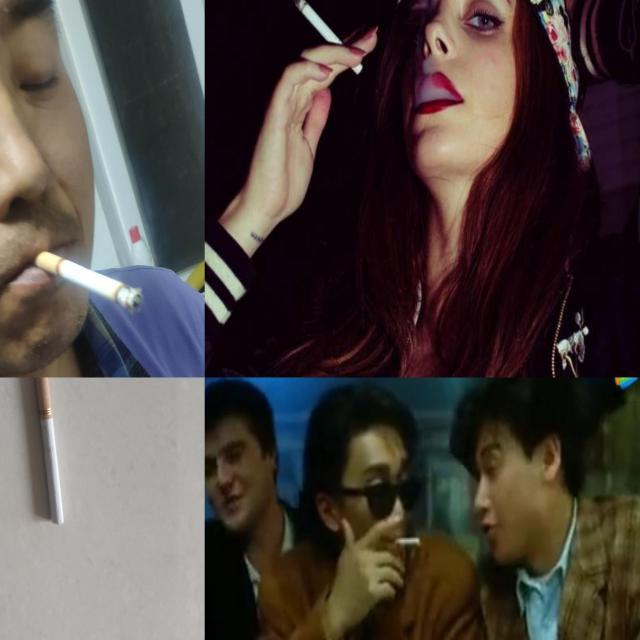cigarette: (30, 248, 144, 316), (288, 0, 366, 75), (35, 378, 66, 526), (394, 534, 422, 550)
